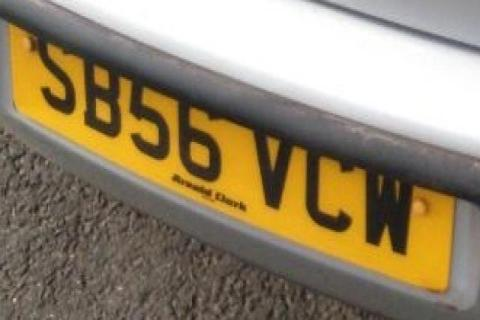LicensePlate: (11, 17, 437, 266)
